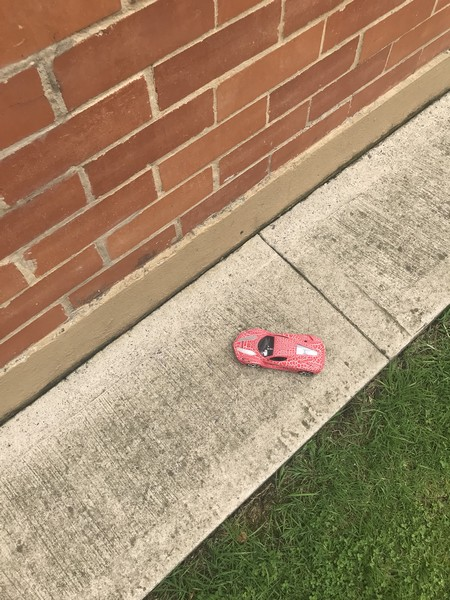RC: (231, 326, 326, 377)
